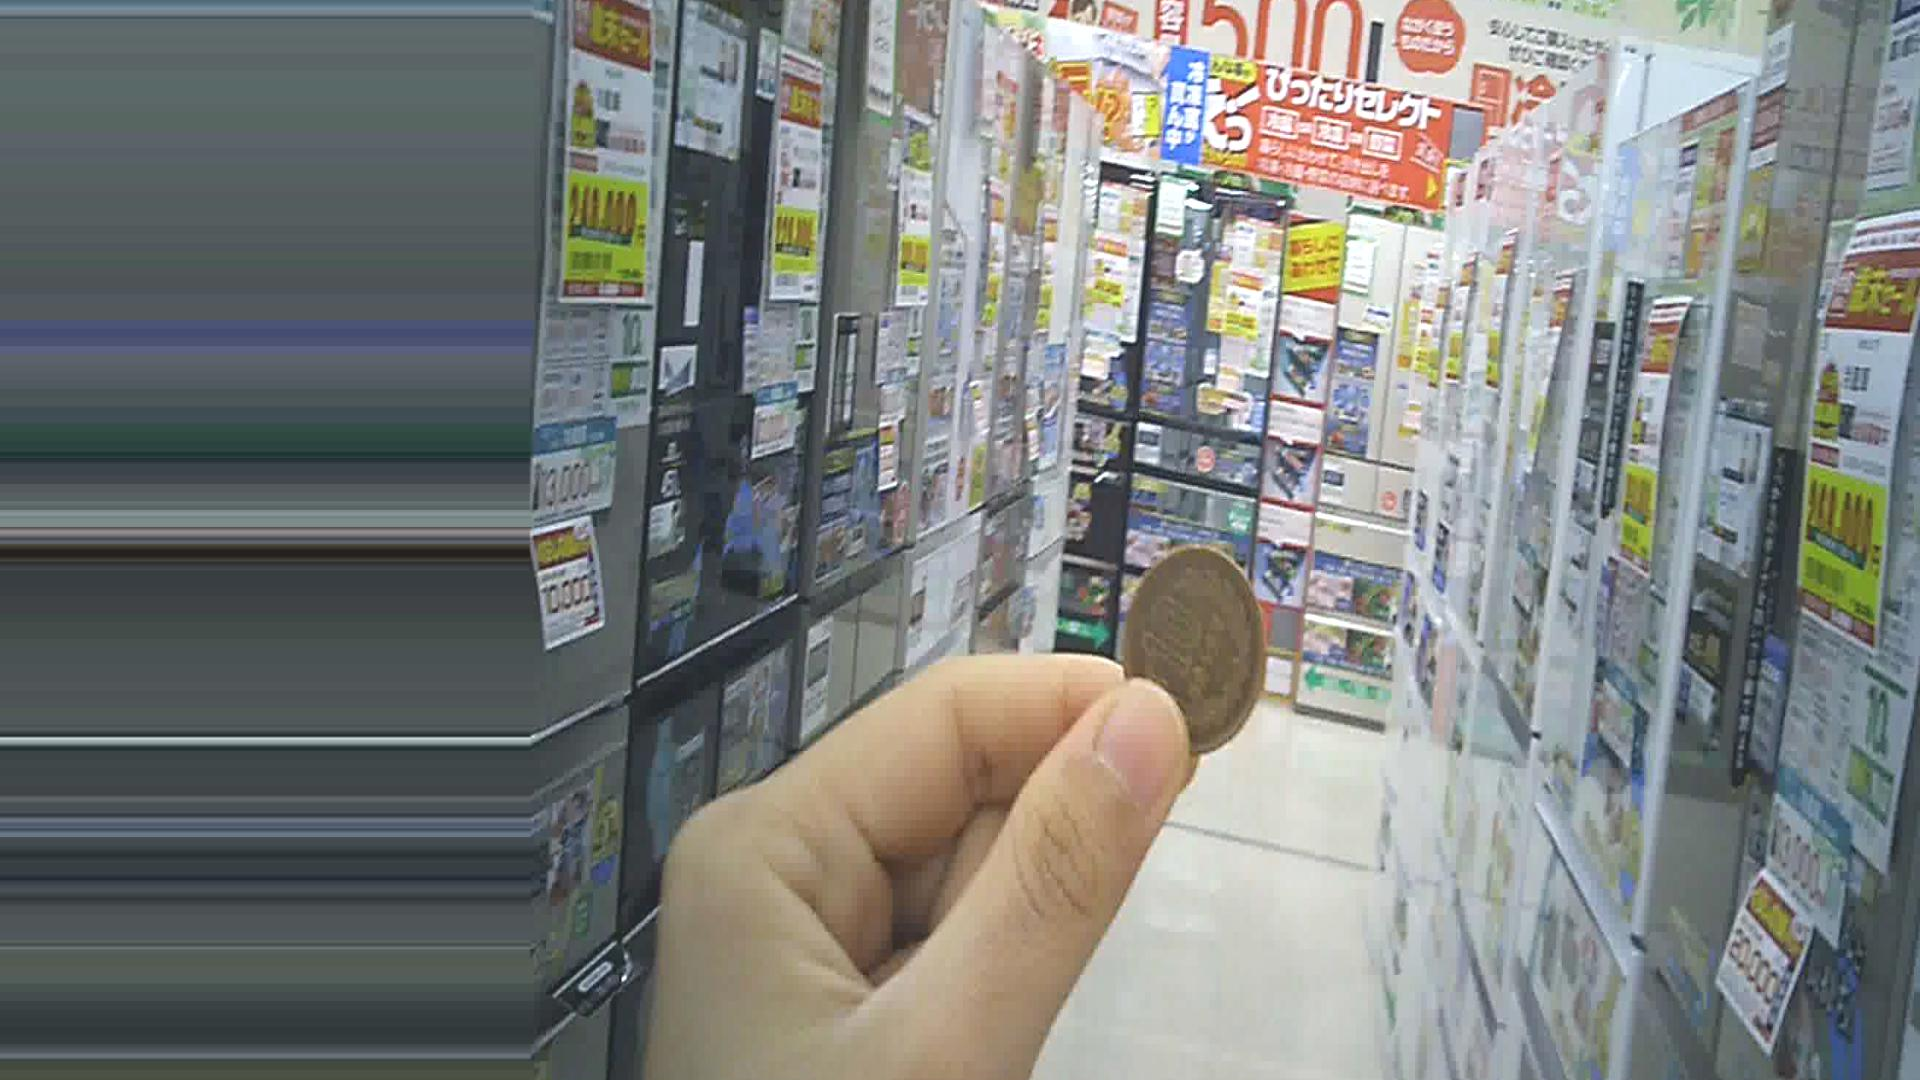10 Yen: (1112, 545, 1276, 753)
